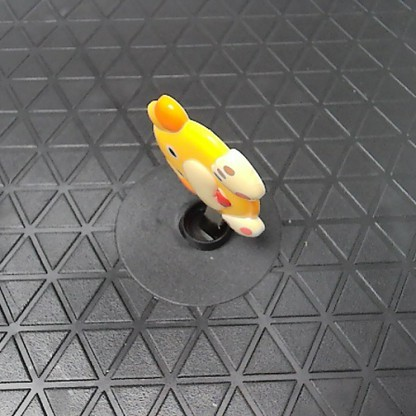dogclip: (139, 89, 267, 236)
